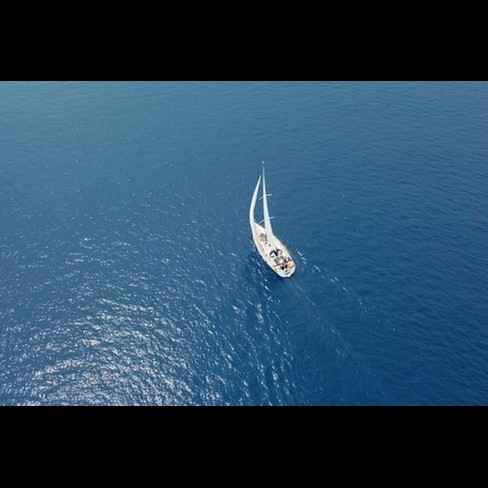boat: (235, 154, 301, 282)
